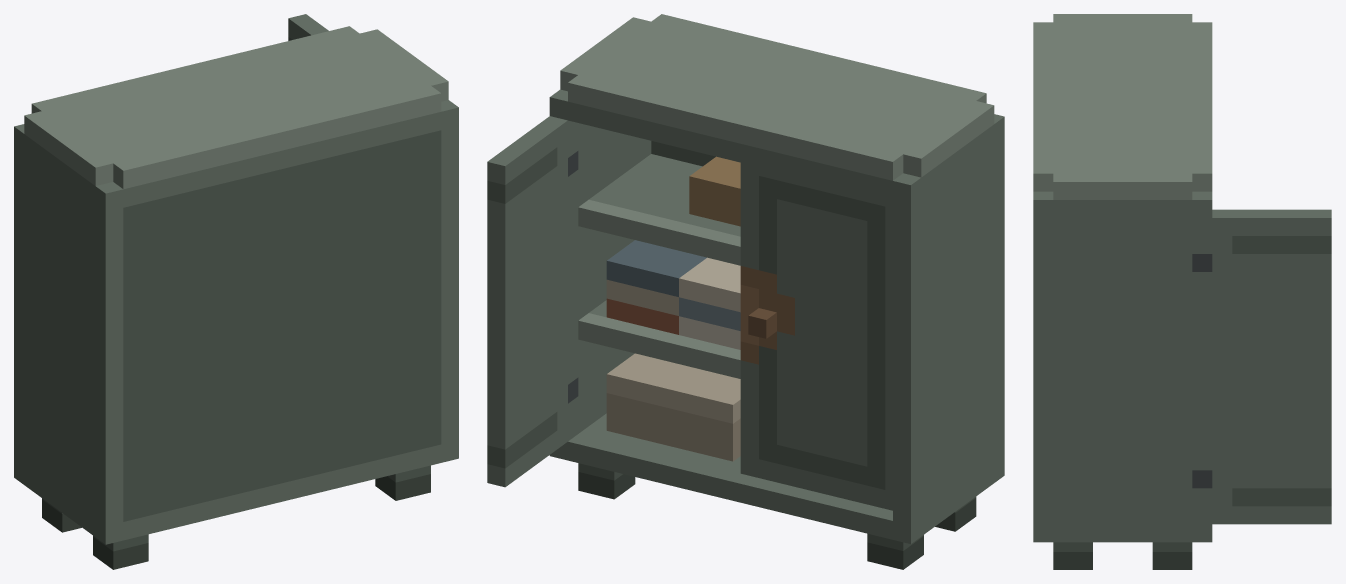
File: Claude_small_storage_cabinet.glb
3 views of the same model, side by side, from view 1: azimuth 30°, elevation 25°; view 2: azimuth 150°, elevation 25°; view 3: azimuth 270°, elevation 25° (orthographic). The views are drawn at different scales.
Visible parts, largest first — view 1: Claude_small_storage_cabinet; view 2: Claude_small_storage_cabinet; view 3: Claude_small_storage_cabinet.
Boxes of the visible parts, <box> form: Claude_small_storage_cabinet: <box>14,14,458,569</box>; Claude_small_storage_cabinet: <box>487,14,1004,569</box>; Claude_small_storage_cabinet: <box>1033,14,1331,569</box>.
Size of the model in its own units: 1 by 1.1 by 0.75.
